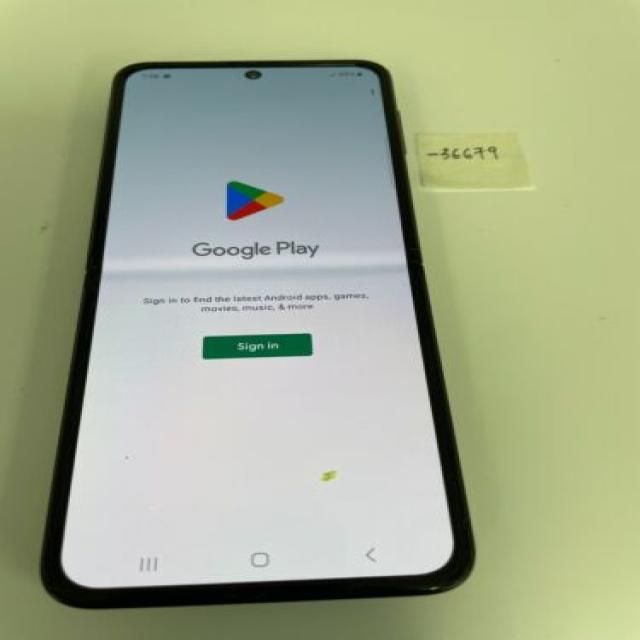dead pixel: (286, 448, 368, 502)
